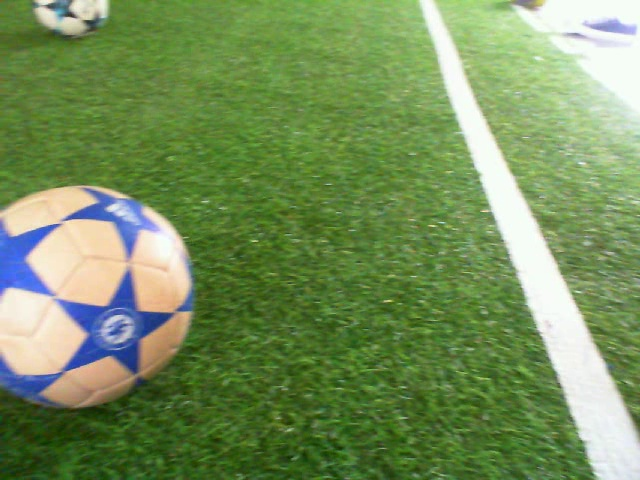ball: (1, 180, 201, 414), (29, 1, 113, 42)
